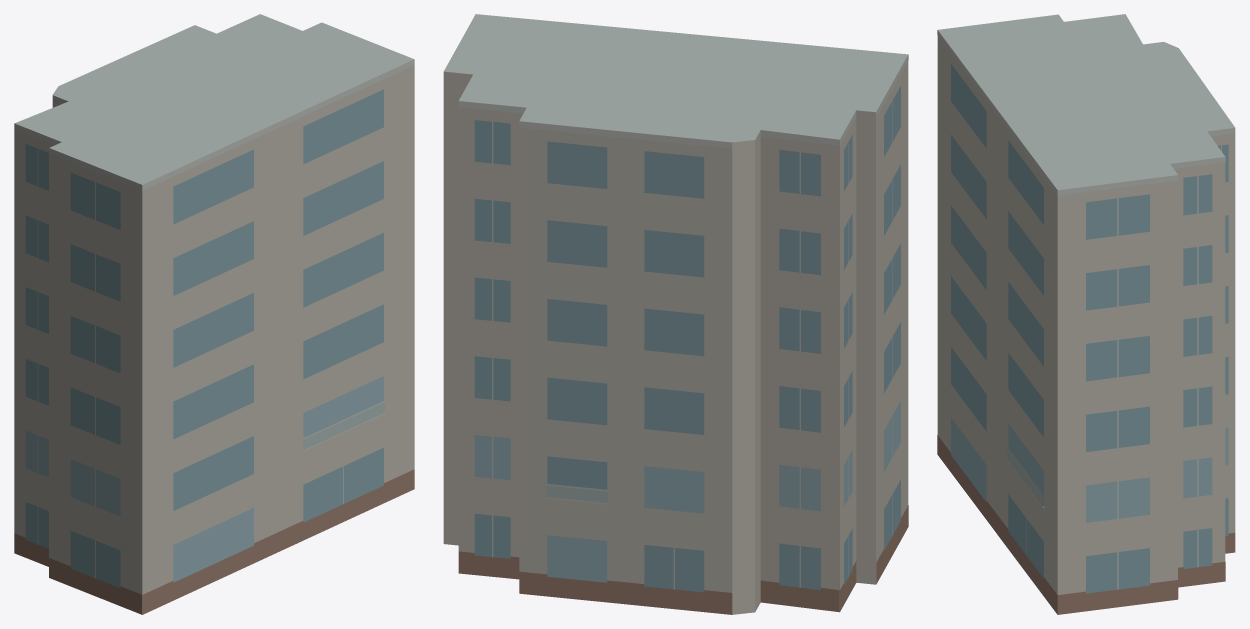
File: survey-upis-32731091.glb
3 renders of one model, left to right at view 1: azimuth 30°, elevation 25°; view 2: azimuth 150°, elevation 25°; view 3: azimuth 270°, elevation 25°, orthographic. The views are drawn at different scales.
Visible parts, largest first — view 1: survey-upis-32731091.tmp; view 2: survey-upis-32731091.tmp; view 3: survey-upis-32731091.tmp.
Part boxes in pixels (x1,y1,x2,y2): survey-upis-32731091.tmp: (14,14,414,614); survey-upis-32731091.tmp: (443,14,908,614); survey-upis-32731091.tmp: (937,14,1235,614).
Size of the model in its own units: 16.57 by 18.6 by 11.84.
